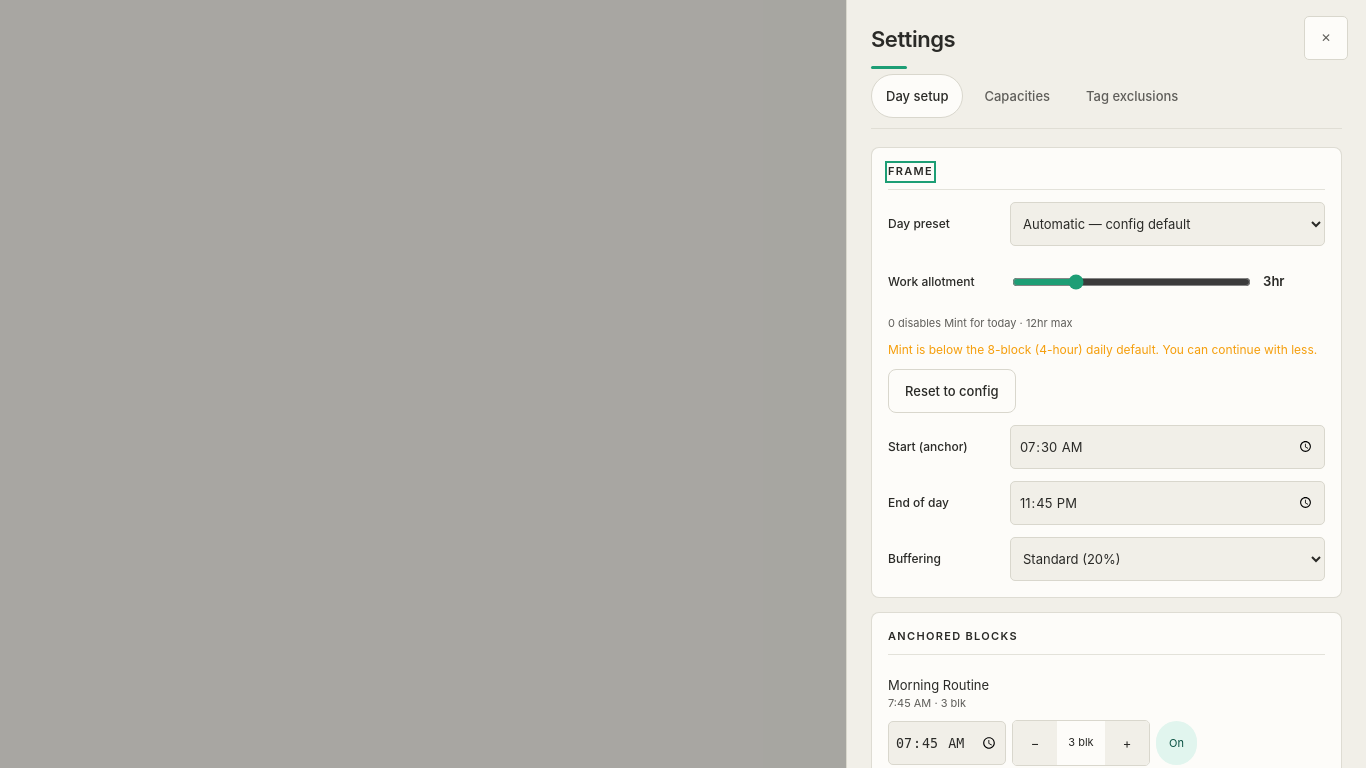
T18g Day Setup semantics › warns for a positive Mint allotment without concrete session rows
This screenshot has width=1366, height=768.
Check: the text "Mint is below the 8-block (4-hour) daily default. You can continue with less." is shown, box [888,341,1317,359]
Set the slider labelled "Work allotment" to "0". click: (1020, 282)
box: [1012,260,1251,304]
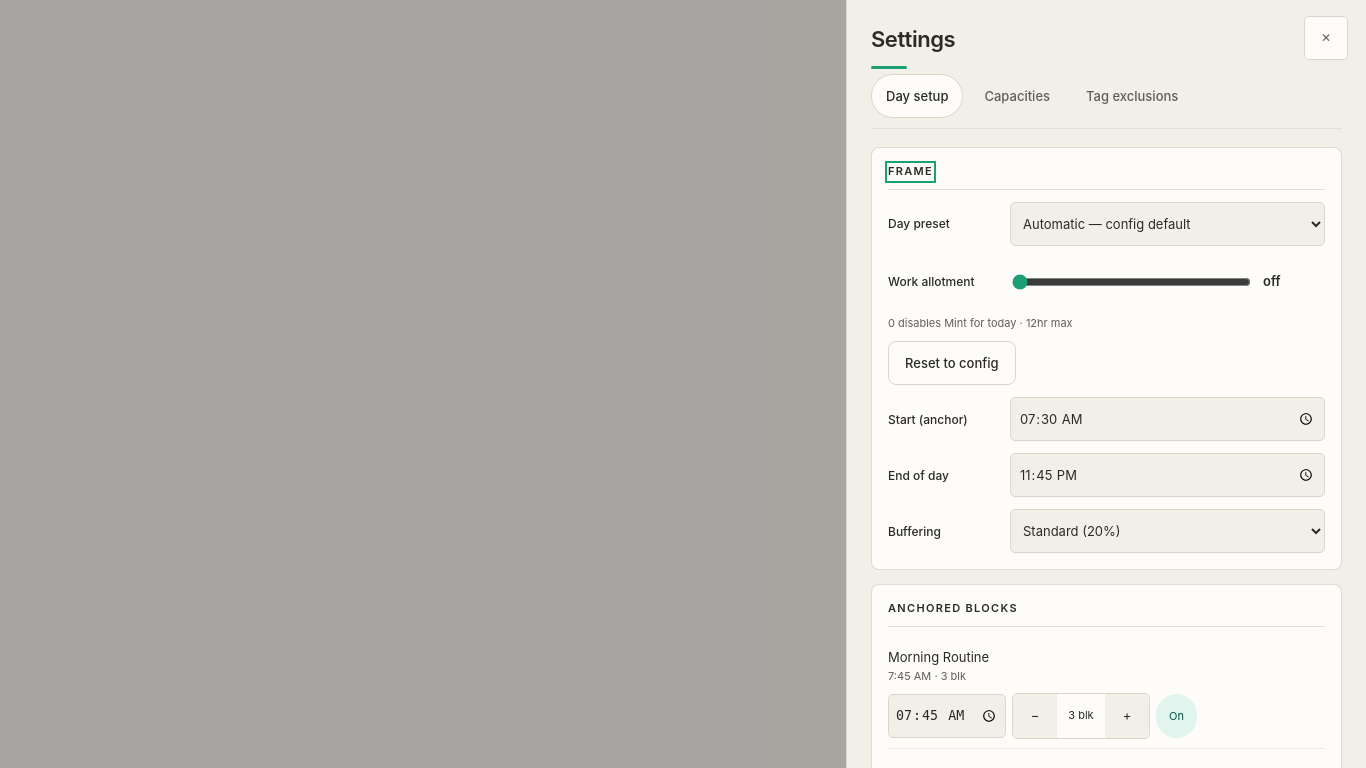
Check: the message "below the 8-block" is gone
Set the slider labelled "Work allotment" to "180". click: (1076, 282)
box: [1012,260,1251,304]
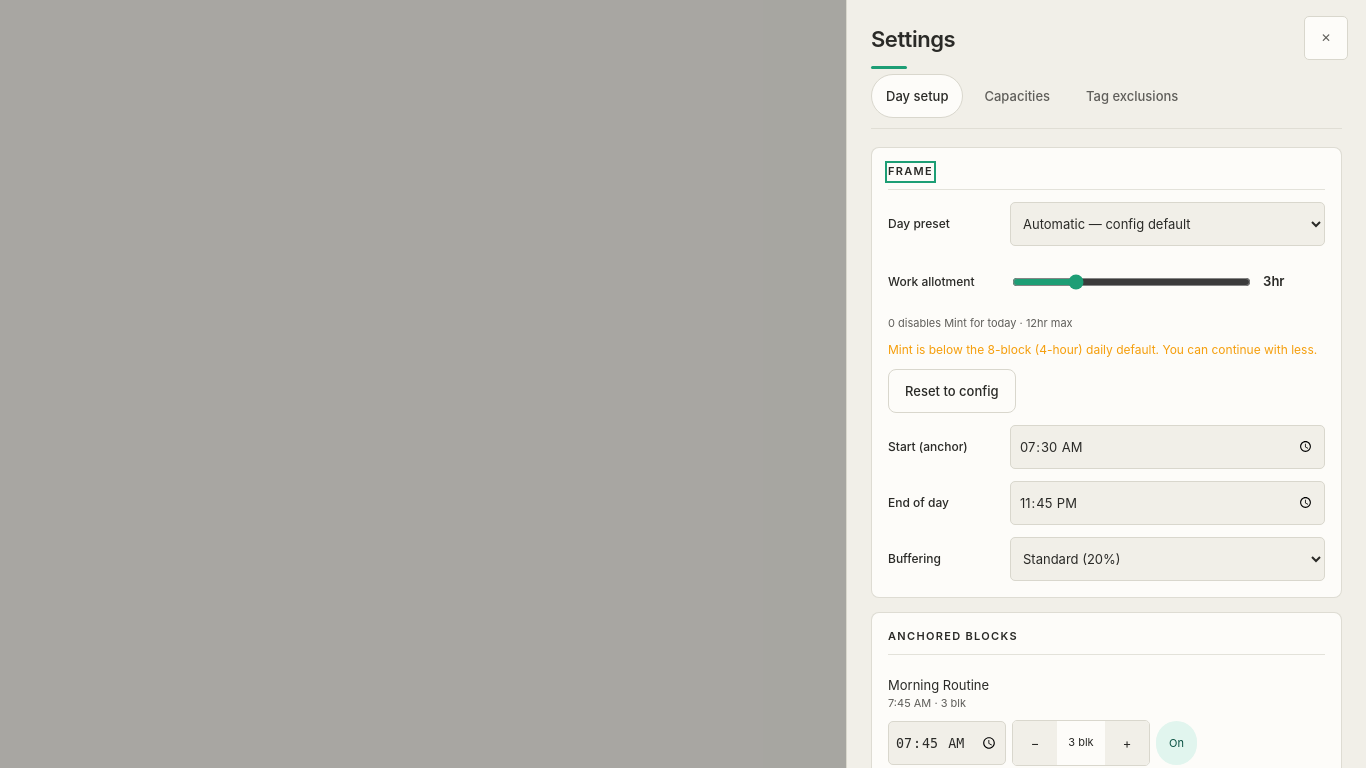
Check: the text "Mint is below the 8-block (4-hour) daily default. You can continue with less." is shown, box [888,341,1317,359]
Set the slider labelled "Work allotment" to "240". click: (1094, 282)
box: [1012,260,1251,304]
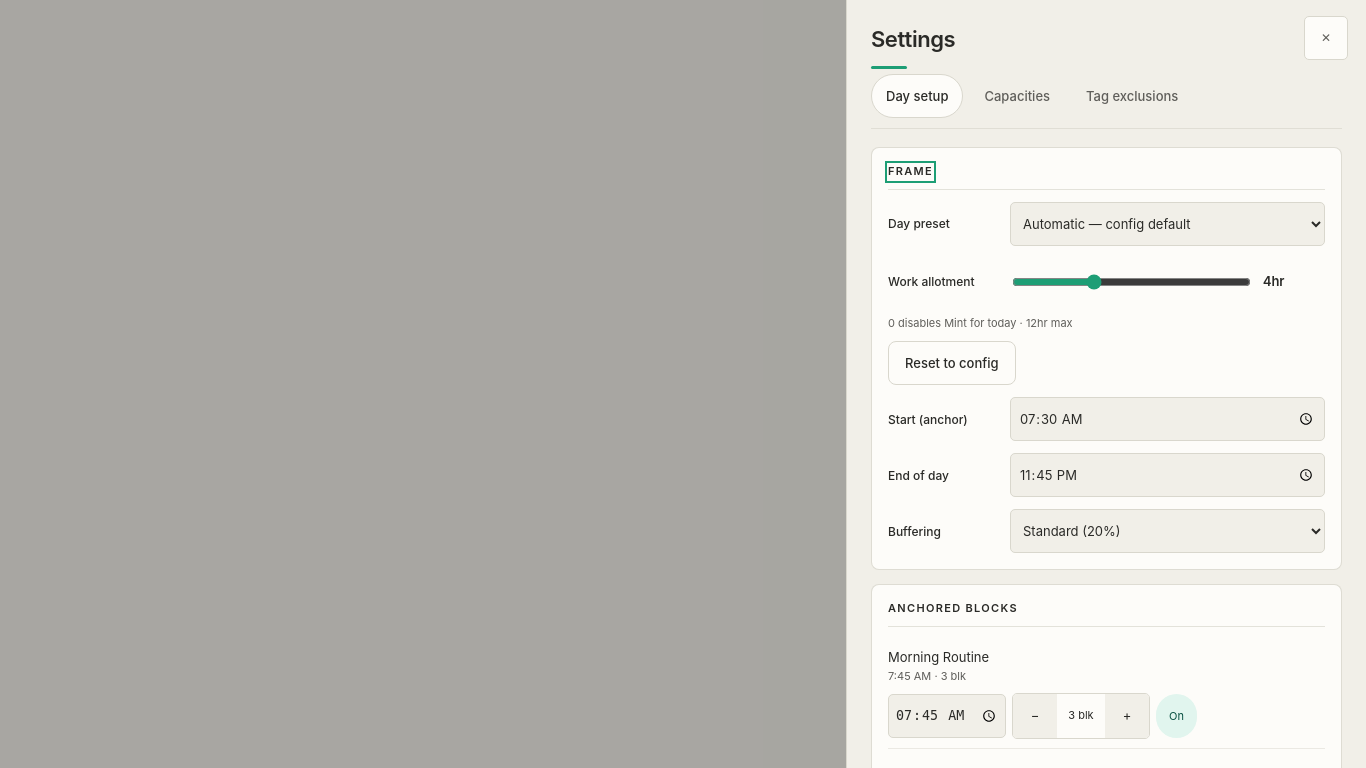
Check: the message "below the 8-block" is gone
